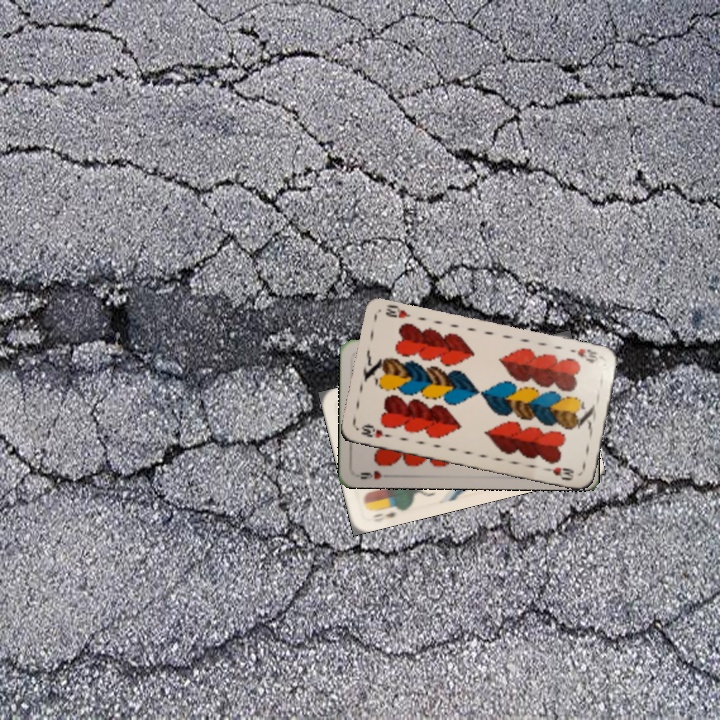EO: (365, 501, 404, 520)
H10: (356, 421, 394, 441), (566, 344, 600, 366)
H9: (356, 467, 385, 482)
